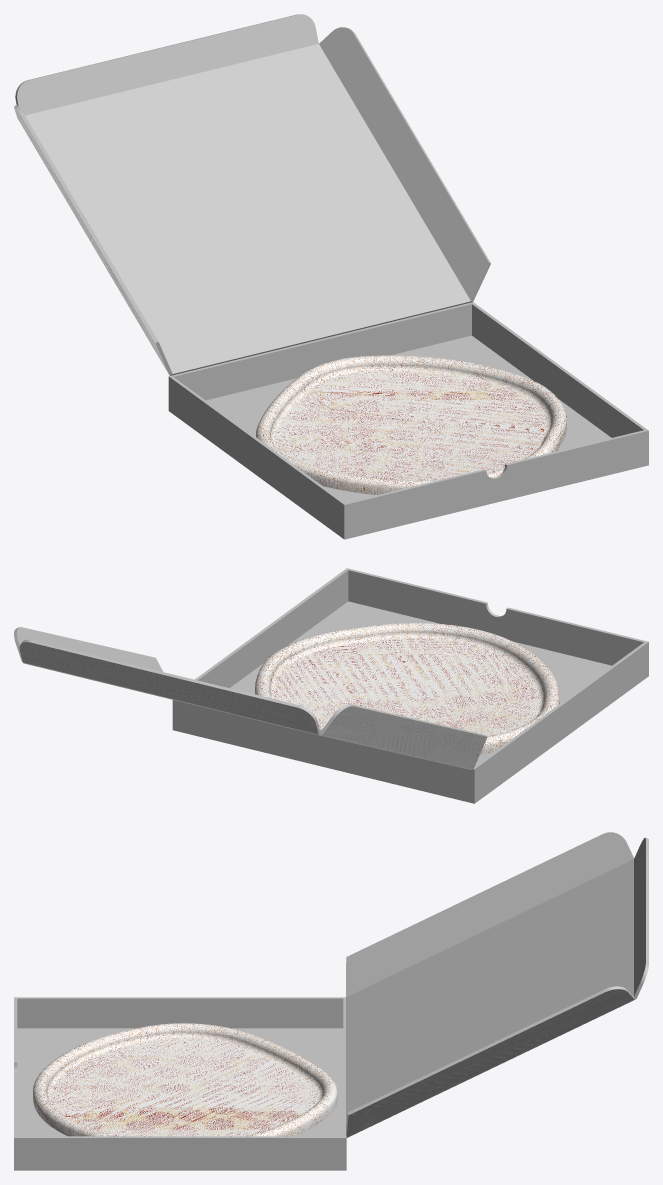
The model's file is pizza.dae.
The picture shows the model from 3 angles, top to bottom: view 1: azimuth 30°, elevation 25°; view 2: azimuth 150°, elevation 25°; view 3: azimuth 270°, elevation 25°; orthographic projection. The views are drawn at different scales.
Visible parts, largest first — view 1: group_2 (×3), group_1; view 2: group_2 (×5), group_1; view 3: group_2 (×3), group_1.
Part boxes in pixels (<box>): group_2 (×3): <box>14,14,648,539</box>; group_1: <box>256,355,566,494</box>; group_2 (×5): <box>14,568,648,803</box>; group_1: <box>255,622,559,754</box>; group_2 (×3): <box>14,832,648,1170</box>; group_1: <box>33,1023,337,1136</box>.
Size of the model in its own units: 20.32 by 35.06 by 12.14.
